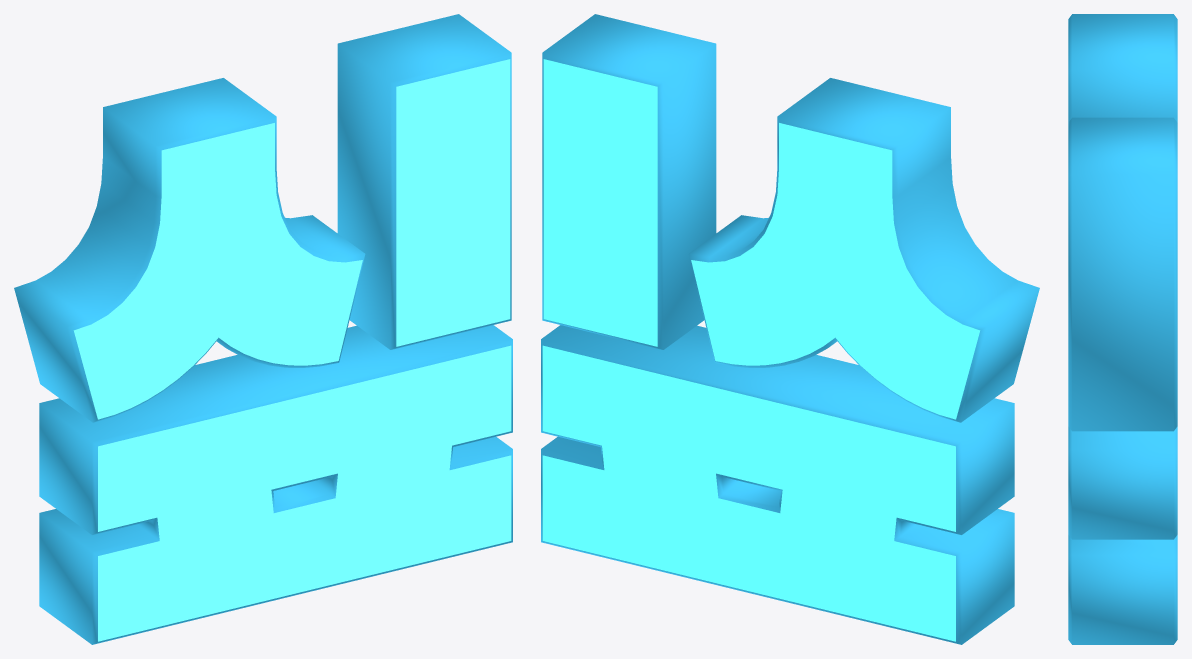
3 views of the same model, side by side, from view 1: azimuth 30°, elevation 25°; view 2: azimuth 150°, elevation 25°; view 3: azimuth 270°, elevation 25° (orthographic). The views are drawn at different scales.
Visible parts, largest first — view 1: glyph; view 2: glyph; view 3: glyph.
Part boxes in pixels (x1,y1,x2,y2): glyph: (14, 14, 512, 644); glyph: (541, 14, 1039, 644); glyph: (1068, 14, 1177, 644).
Size of the model in its own units: 0.1014 by 0.1064 by 0.0225.
